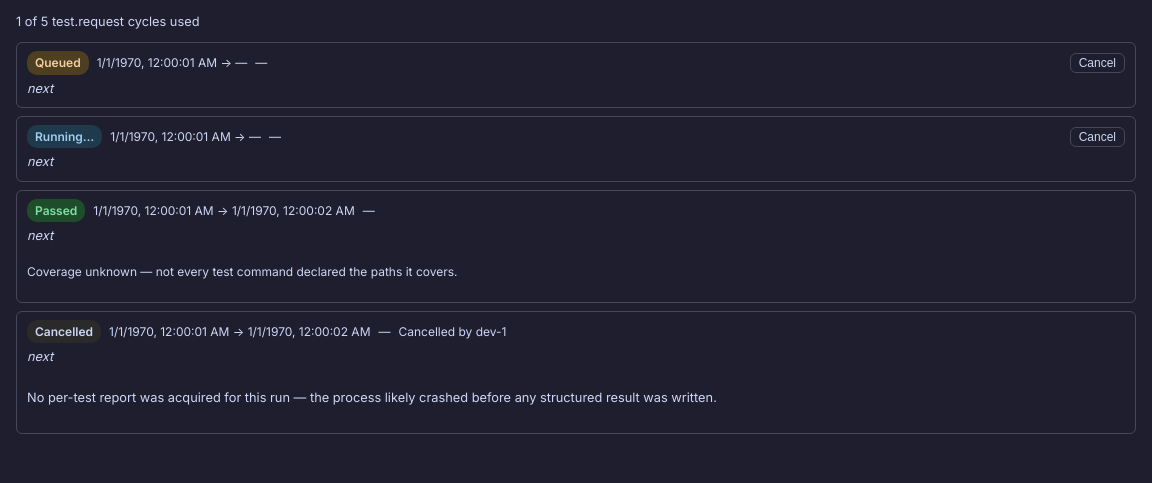
it: TestsTab › shows cancel only on queued/running rows, renders cancelled distinctly, and handles 409
Check: the button with test id "test-run-cancel-r" is shown, box [1070, 127, 1125, 147]
Check: the text with test id "test-run-outcome-c" reads "Cancelled", box [35, 324, 93, 339]
Click the button with test id "test-run-cancel-q".
click(1097, 63)  # box [1070, 53, 1125, 73]
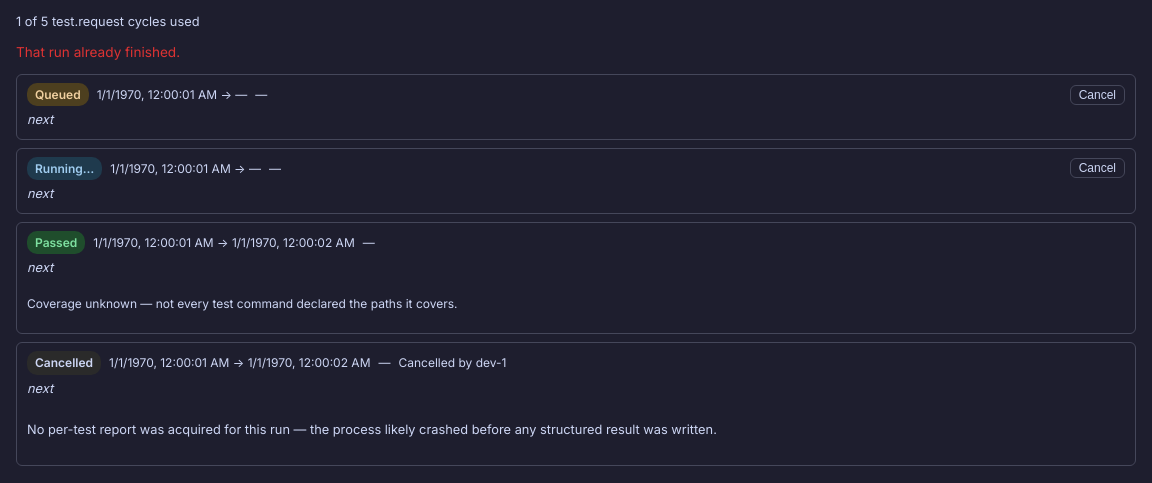
Check: the text with test id "tests-tab-cancel-notice" reads "That run already finished.", box [16, 44, 180, 60]
